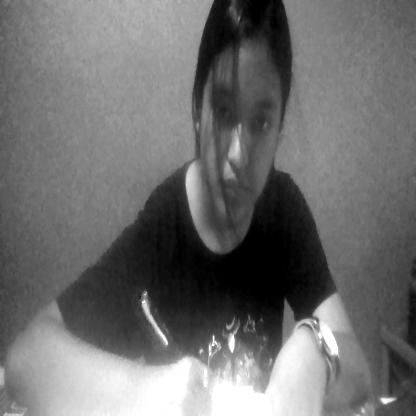Normal: (192, 0, 288, 228)
